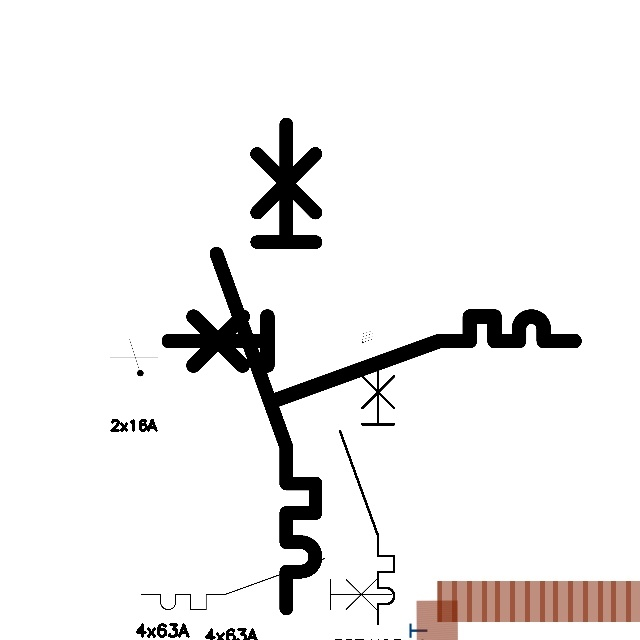interruptor_termomagnetico: (204, 112, 328, 621), (158, 306, 585, 410), (333, 353, 401, 630), (135, 552, 398, 616)
